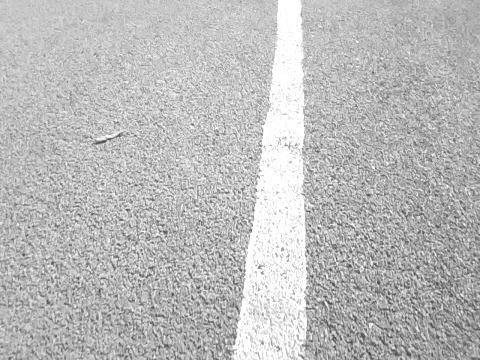Lines: (232, 0, 306, 360)
